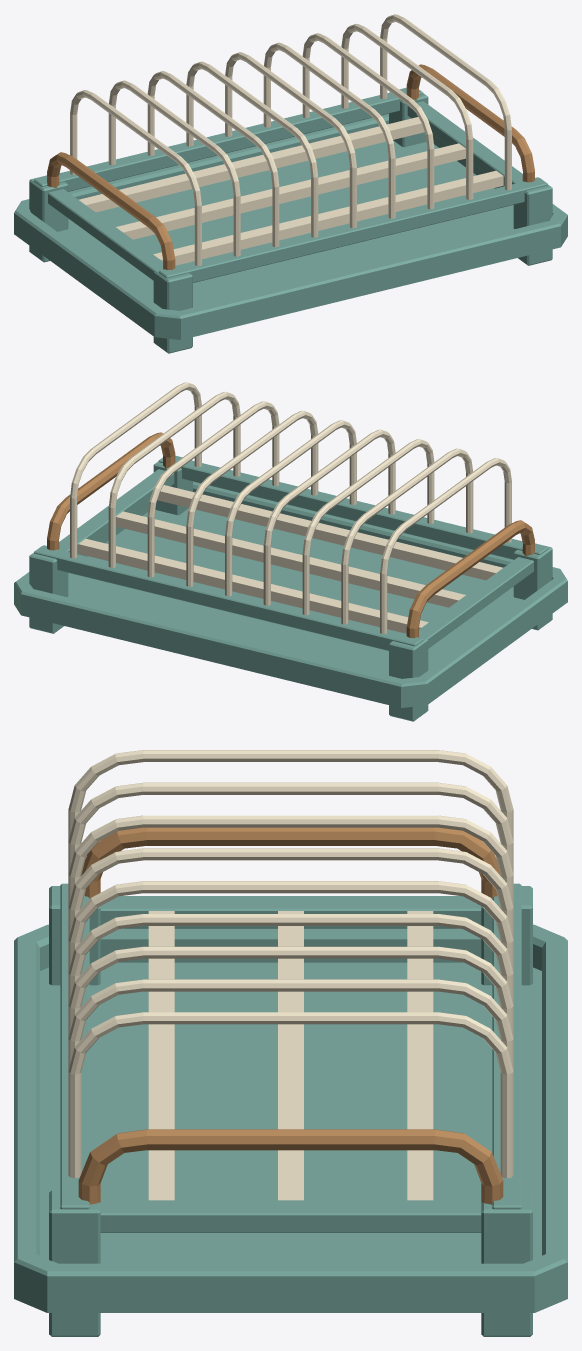
The picture shows the model from 3 angles, top to bottom: view 1: azimuth 30°, elevation 25°; view 2: azimuth 150°, elevation 25°; view 3: azimuth 270°, elevation 25°; orthographic projection. The views are drawn at different scales.
Parts seen in each view (by area): view 1: CatchTray_ContinuousShallowShell, LongSideRail_Front, LongSideRail_Back, BottomBearingStrip_02, BottomBearingStrip_03, BottomBearingStrip_01, EndCrossRail_L, LowEndLoop_L, PlateSlotDivider_02, PlateSlotDivider_01, PlateSlotDivider_05, PlateSlotDivider_08 (+11 smaller); view 2: CatchTray_ContinuousShallowShell, LongSideRail_Back, LongSideRail_Front, BottomBearingStrip_02, BottomBearingStrip_01, BottomBearingStrip_03, EndCrossRail_L, LowEndLoop_L, PlateSlotDivider_02, PlateSlotDivider_01, PlateSlotDivider_05, PlateSlotDivider_08 (+11 smaller); view 3: CatchTray_ContinuousShallowShell, EndCrossRail_R, LowEndLoop_R, PlateSlotDivider_09, LowEndLoop_L, EndCrossRail_L, PlateSlotDivider_05, PlateSlotDivider_07, PlateSlotDivider_02, PlateSlotDivider_04, PlateSlotDivider_08, PlateSlotDivider_03 (+11 smaller).
Boxes of the visible parts, box(x1,y1,x2,y2) form: CatchTray_ContinuousShallowShell: box(14, 113, 567, 339); LongSideRail_Front: box(158, 178, 547, 282); LongSideRail_Back: box(34, 88, 423, 191); BottomBearingStrip_02: box(116, 143, 465, 239); BottomBearingStrip_03: box(78, 117, 428, 212); BottomBearingStrip_01: box(153, 170, 503, 265); EndCrossRail_L: box(48, 189, 162, 280); LowEndLoop_L: box(47, 152, 175, 270); PlateSlotDivider_02: box(108, 80, 240, 256); PlateSlotDivider_01: box(70, 90, 201, 265); PlateSlotDivider_05: box(225, 52, 356, 228); PlateSlotDivider_08: box(341, 23, 473, 199); CatchTray_ContinuousShallowShell: box(14, 481, 567, 707); LongSideRail_Back: box(34, 546, 423, 650); LongSideRail_Front: box(158, 456, 547, 559); BottomBearingStrip_02: box(116, 511, 465, 607); BottomBearingStrip_01: box(153, 485, 503, 580); BottomBearingStrip_03: box(78, 538, 428, 633); EndCrossRail_L: box(419, 557, 533, 648); LowEndLoop_L: box(406, 520, 534, 638); PlateSlotDivider_02: box(341, 448, 473, 624); PlateSlotDivider_01: box(380, 458, 511, 633); PlateSlotDivider_05: box(225, 420, 356, 596); PlateSlotDivider_08: box(108, 391, 240, 567); CatchTray_ContinuousShallowShell: box(14, 924, 567, 1312); EndCrossRail_R: box(100, 1200, 481, 1232); LowEndLoop_R: box(78, 1129, 503, 1204); PlateSlotDivider_09: box(68, 1012, 513, 1178); LowEndLoop_L: box(81, 827, 500, 898); EndCrossRail_L: box(100, 896, 481, 928); PlateSlotDivider_05: box(68, 881, 513, 972); PlateSlotDivider_07: box(68, 946, 513, 1038); PlateSlotDivider_02: box(68, 782, 513, 874); PlateSlotDivider_04: box(68, 848, 513, 939); PlateSlotDivider_08: box(68, 979, 513, 1071); PlateSlotDivider_03: box(68, 815, 513, 907).
Size of the model in its own units: 0.448 by 0.1755 by 0.3.
